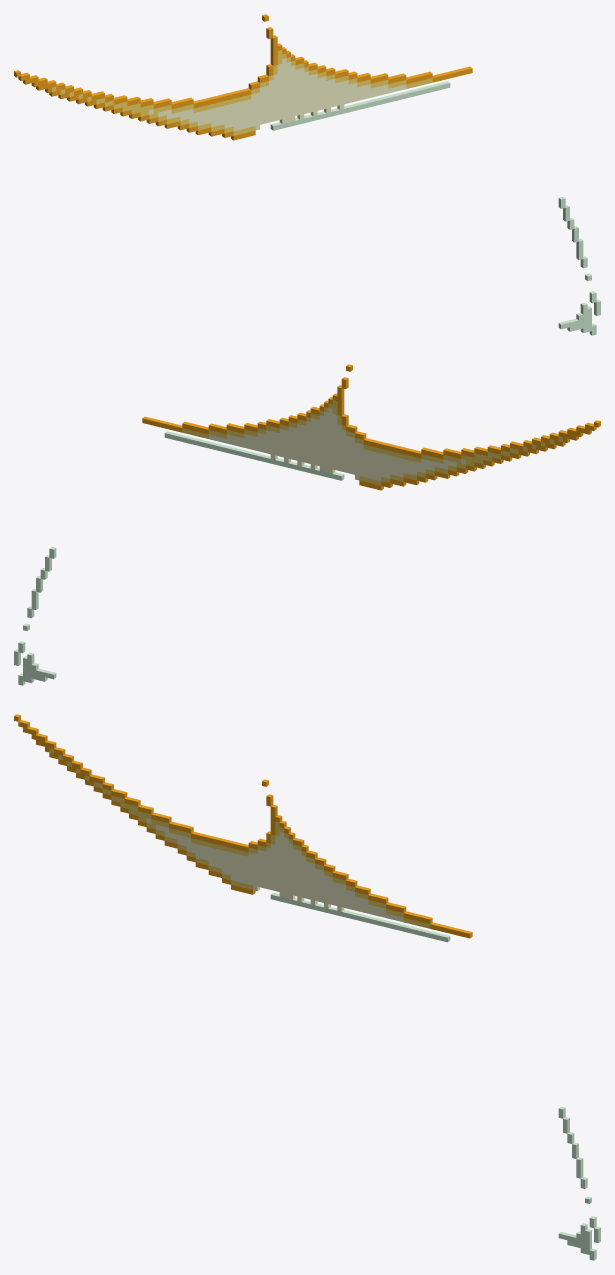
Rendered from Fight_023_2_06_fx.obj.
The picture shows the model from 3 angles, top to bottom: view 1: azimuth 30°, elevation 25°; view 2: azimuth 150°, elevation 25°; view 3: azimuth 330°, elevation 25°; orthographic projection.
Bounding box in the file's own units: 13.2 × 8.7 × 0.1.
1 material, 1 textured.
